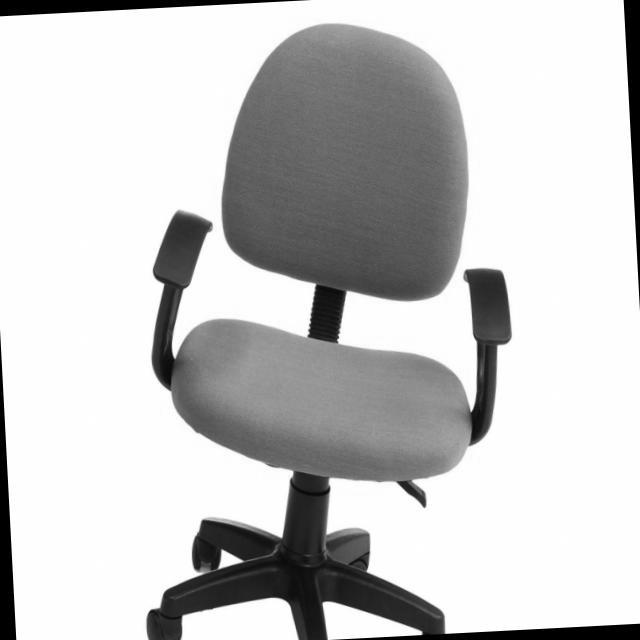chair: (114, 16, 526, 640)
